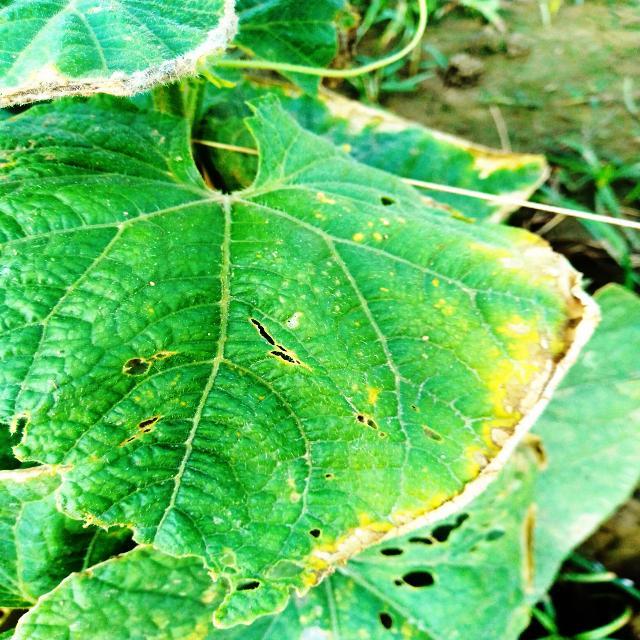Gummy-Stem-Blight: (311, 234, 603, 589), (1, 3, 243, 108)
